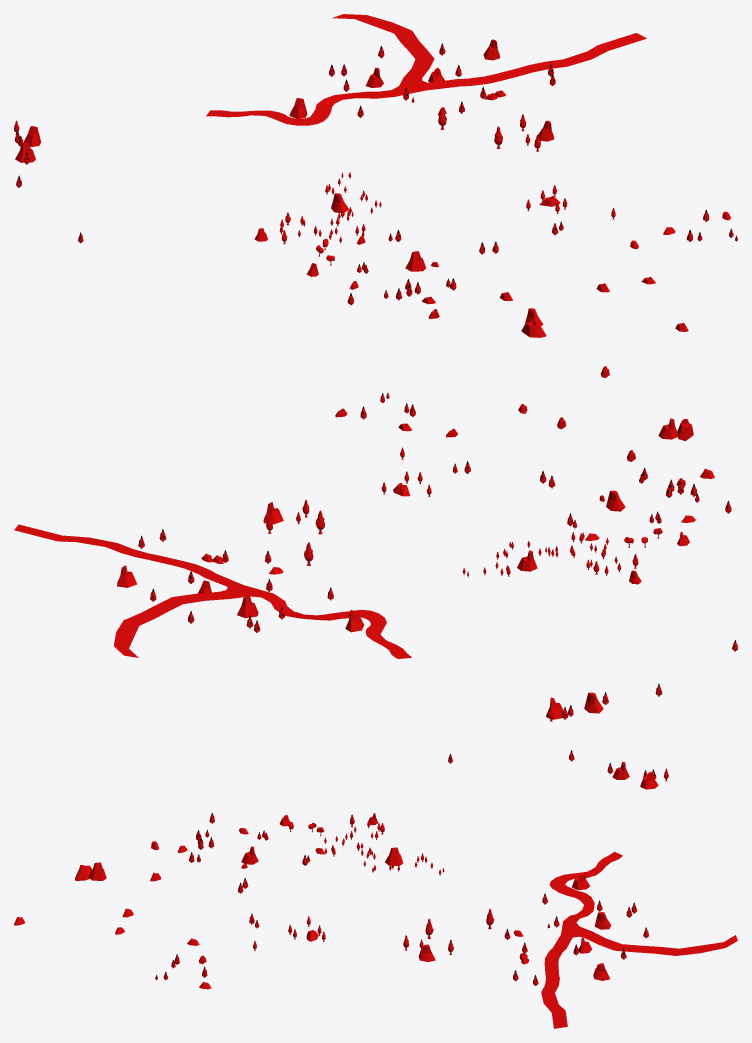
The model's file is Berg_FillerAssets_01.glb.
3 views of the same model, one above another, from view 1: azimuth 30°, elevation 25°; view 2: azimuth 150°, elevation 25°; view 3: azimuth 270°, elevation 25° (orthographic). The views are drawn at different scales.
Parts seen in each view (by area): view 1: BeverlyChillsRoad_03; view 2: BeverlyChillsRoad_03; view 3: BeverlyChillsRoad_03.
Part boxes in pixels (<box>): BeverlyChillsRoad_03: <box>206,14,646,125</box>; BeverlyChillsRoad_03: <box>14,524,411,658</box>; BeverlyChillsRoad_03: <box>541,851,737,1028</box>.
Size of the model in its own units: 271 by 12.51 by 301.
